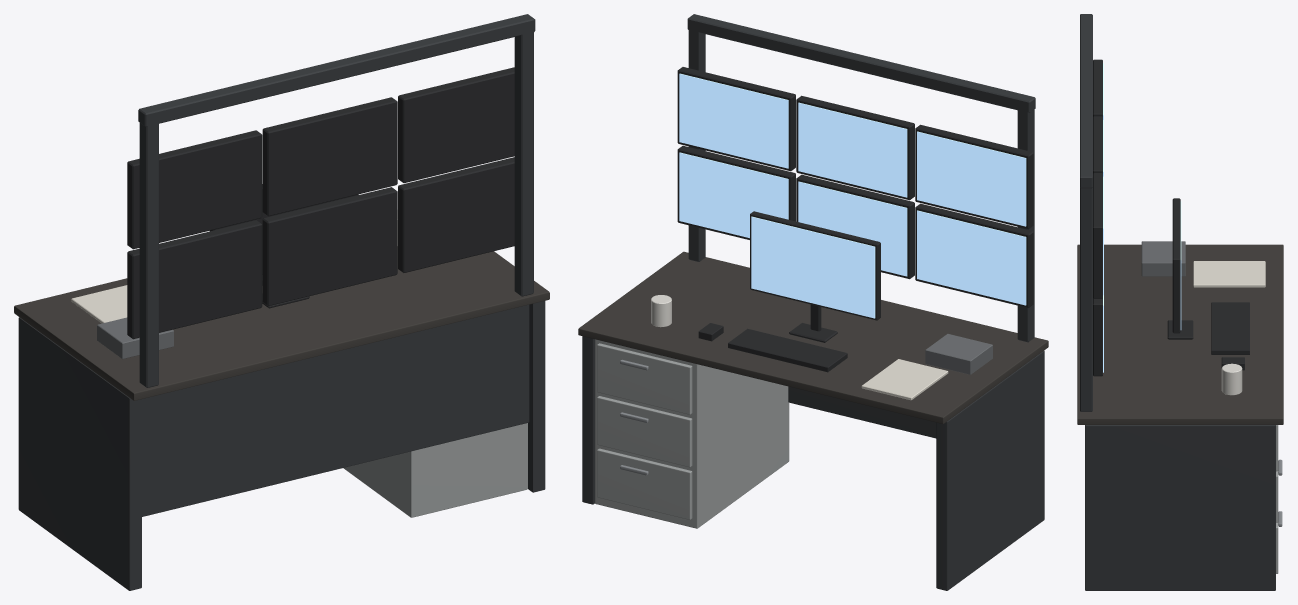
The model's file is prop_camera_station_bank.glb.
3 renders of one model, left to right at view 1: azimuth 30°, elevation 25°; view 2: azimuth 150°, elevation 25°; view 3: azimuth 270°, elevation 25°, orthographic. The views are drawn at different scales.
Parts seen in each view (by area): view 1: Desk, Monitors; view 2: Desk, Screens, Monitors; view 3: Desk, Monitors, Screens.
Boxes of the visible parts, x1,y1,x2,y2 form: Desk: [14, 210, 549, 590]; Monitors: [127, 14, 535, 387]; Desk: [578, 251, 1048, 590]; Screens: [679, 73, 1026, 318]; Monitors: [677, 14, 1035, 342]; Desk: [1077, 241, 1283, 590]; Monitors: [1080, 14, 1193, 411]; Screens: [1103, 63, 1181, 372].
Bounding box in the file's own units: 1.6 × 1.75 × 0.8.
